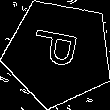P_E: (30, 29, 87, 76)
